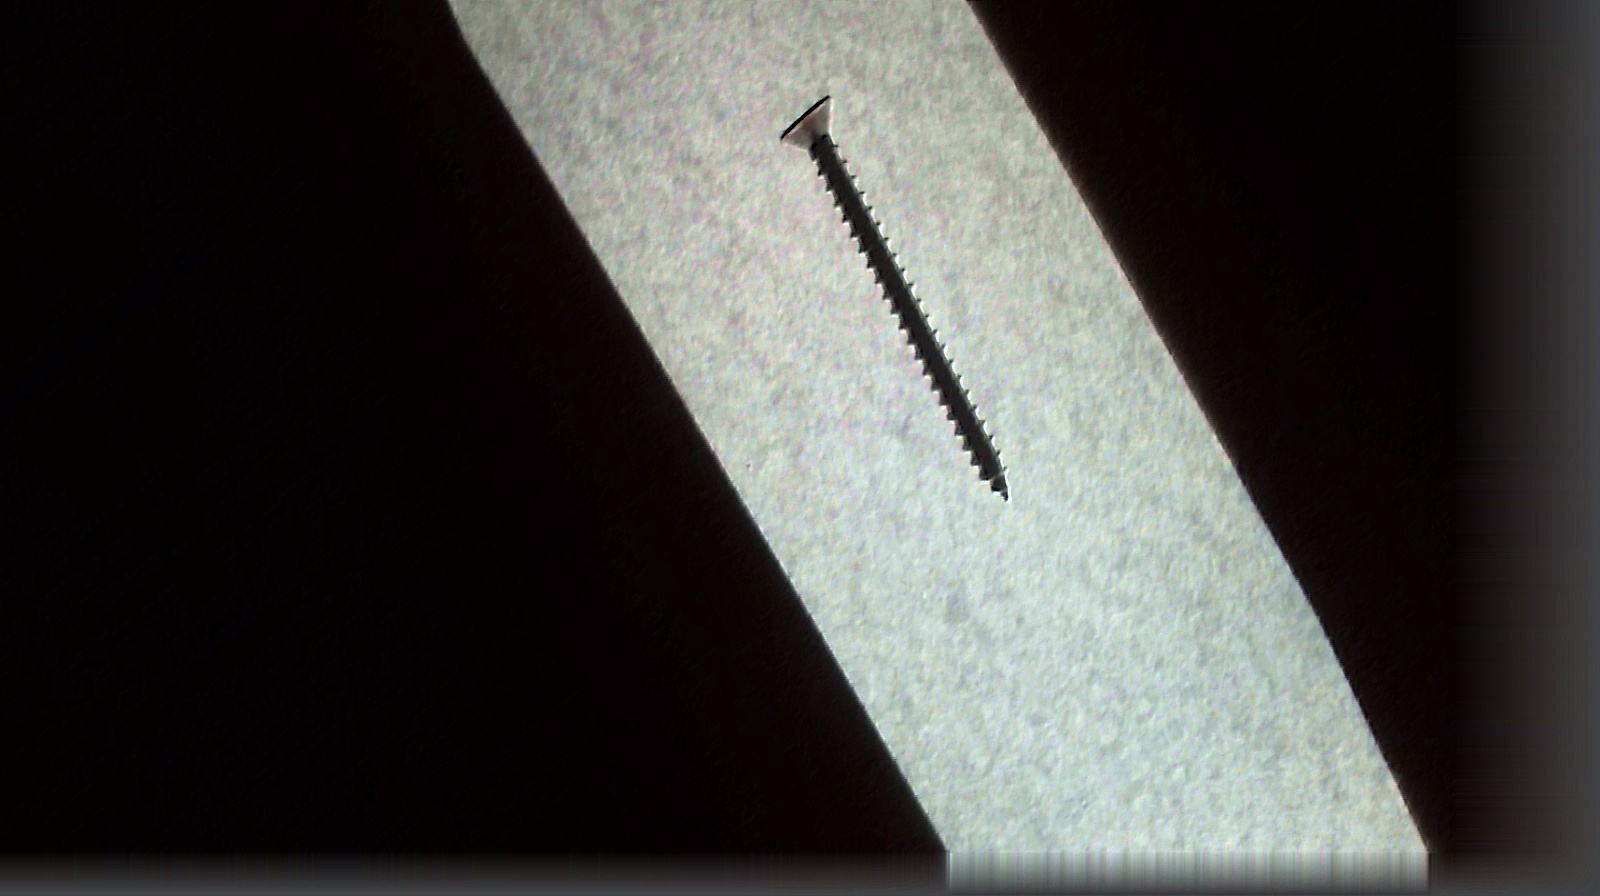S002: (747, 68, 1059, 561)
